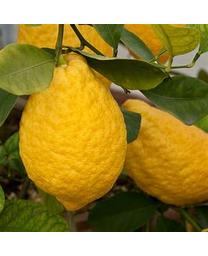lemon: (19, 52, 125, 210), (124, 97, 207, 203)
